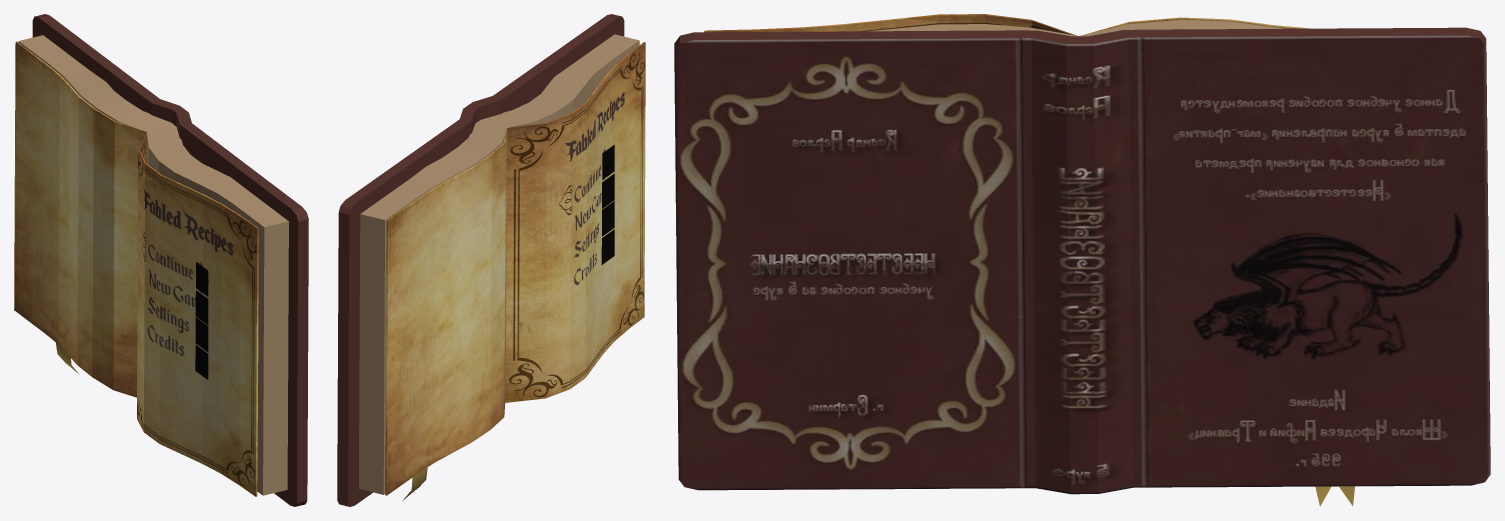
The model's file is book-optimized.glb.
The picture shows the model from 3 angles, left to right: view 1: azimuth 30°, elevation 25°; view 2: azimuth 150°, elevation 25°; view 3: azimuth 270°, elevation 25°; orthographic projection. The views are drawn at different scales.
Visible parts, largest first — view 1: pageleft, pageRight, object 2, object 5, Settings, Credits, New Game, Continue; view 2: pageRight, pageleft, object 2, object 5, Credits, New Game, Continue, Settings; view 3: object 4, object 5, pageRight, object 2.
Boxes of the visible parts, box(x1,y1,x2,y2) form: pageleft: box(14, 41, 145, 397); pageRight: box(137, 132, 258, 496); object 2: box(18, 35, 288, 495); object 5: box(32, 14, 308, 506); Settings: box(195, 317, 208, 352); Credits: box(195, 345, 208, 379); New Game: box(195, 290, 208, 324); Continue: box(196, 262, 208, 296); pageRight: box(506, 42, 645, 402); pageleft: box(385, 129, 506, 495); object 2: box(359, 34, 639, 494); object 5: box(337, 14, 624, 506); Credits: box(601, 229, 614, 264); New Game: box(602, 173, 614, 208); Continue: box(602, 144, 614, 179); Settings: box(602, 201, 614, 236); object 4: box(674, 35, 1490, 494); object 5: box(674, 27, 1490, 463); pageRight: box(704, 14, 1076, 35); object 2: box(868, 19, 1285, 36).
Bounding box in the file's own units: 0.0708 × 0.3069 × 0.4684.
Materials: 7 (3 with a texture image).
